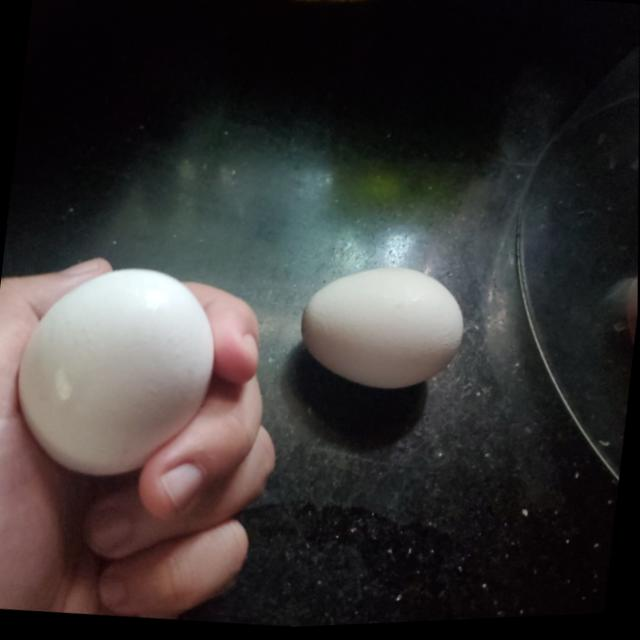egg: (10, 257, 222, 487), (299, 260, 474, 402)
